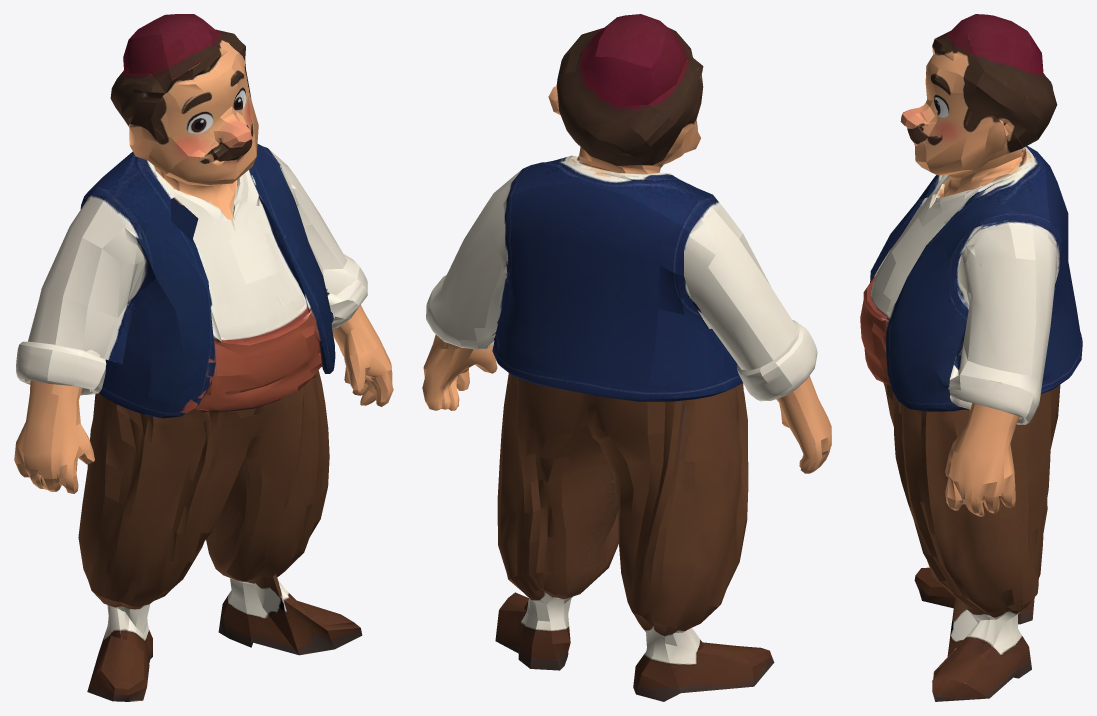
File: komsu.glb
3 renders of one model, left to right at view 1: azimuth 30°, elevation 25°; view 2: azimuth 150°, elevation 25°; view 3: azimuth 270°, elevation 25°, orthographic. The views are drawn at different scales.
Parts seen in each view (by area): view 1: Mesh0; view 2: Mesh0; view 3: Mesh0.
Boxes of the visible parts, bbox=[...] form: Mesh0: bbox=[14, 14, 393, 701]; Mesh0: bbox=[422, 14, 831, 701]; Mesh0: bbox=[860, 14, 1082, 701].
Size of the model in its own units: 1.16 by 1.9 by 0.6193.
1 material, 1 textured.
